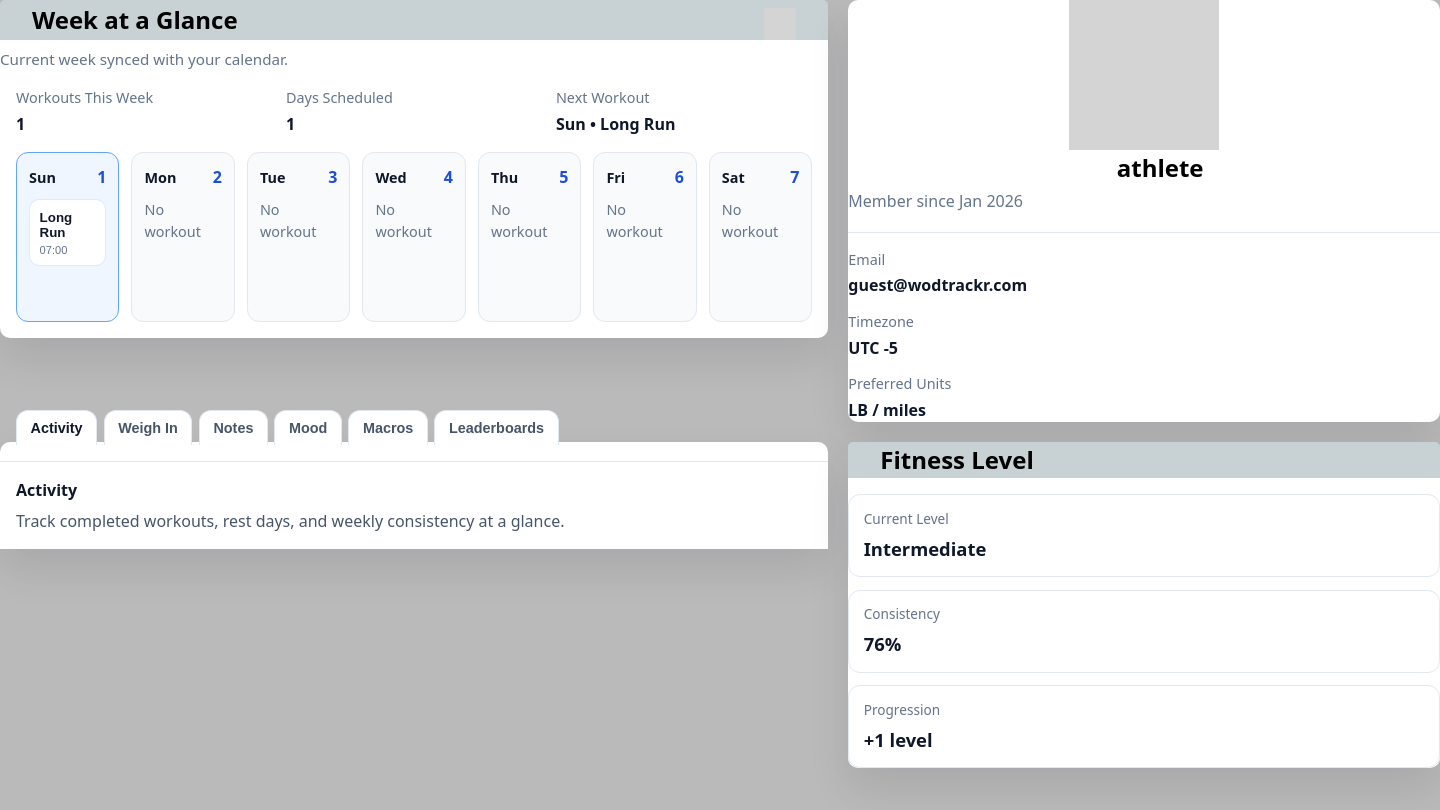
Test: Calendar/Profile weekly sync › opens workout details from the profile week view
Click the button "Long Run 07:00": [68, 233] box x1=29 y1=199 x2=106 y2=266
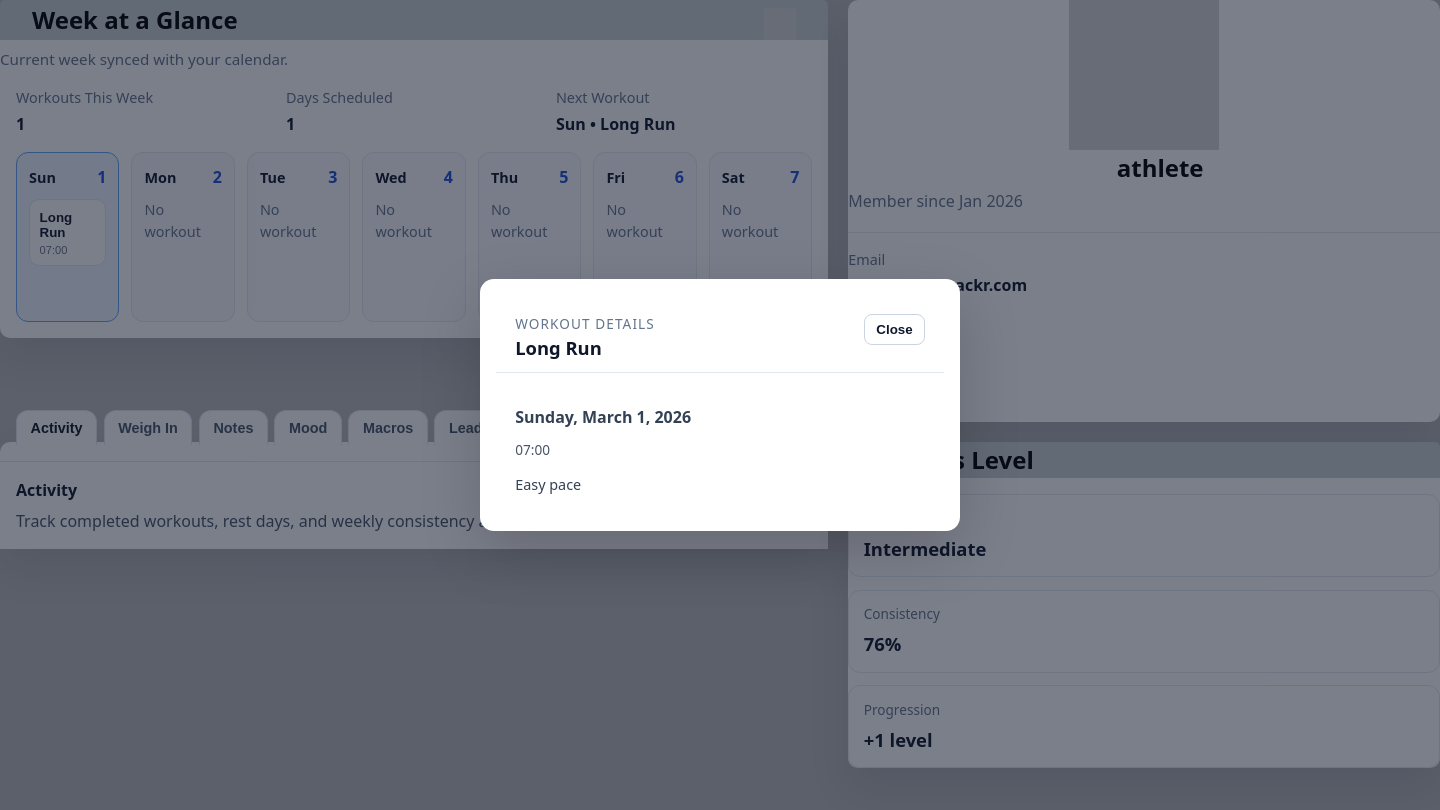
expect the heading "Long Run" is shown: met, box x1=515 y1=335 x2=602 y2=360
expect the text "Easy pace" is shown: met, box x1=515 y1=476 x2=581 y2=494
expect the text "Sunday, March 1, 2026" is shown: met, box x1=515 y1=406 x2=691 y2=428
